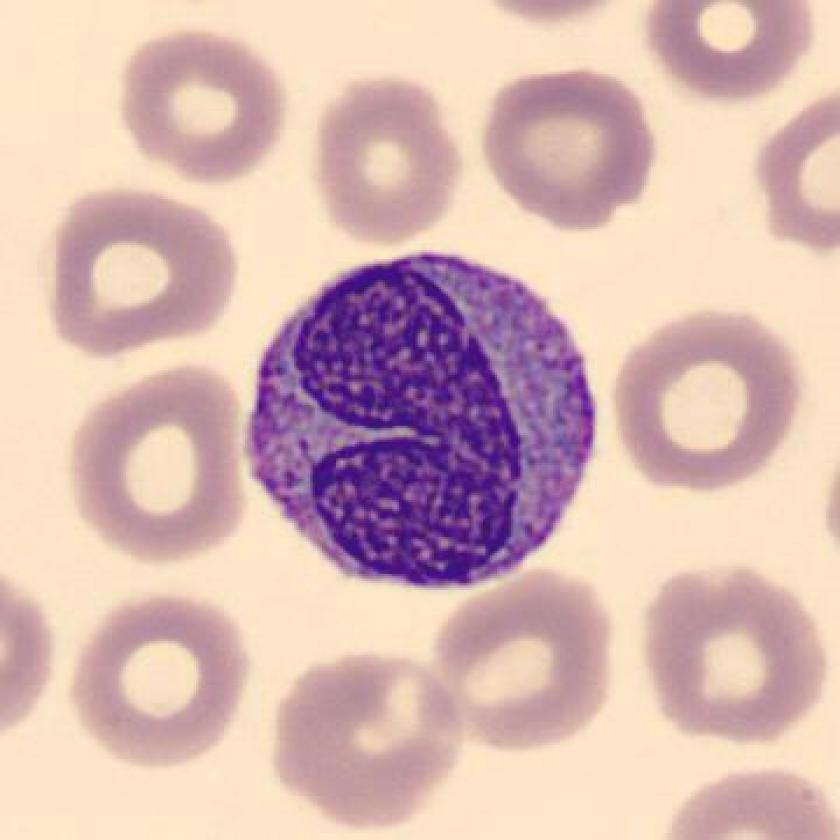monocyte: (232, 230, 619, 607)
